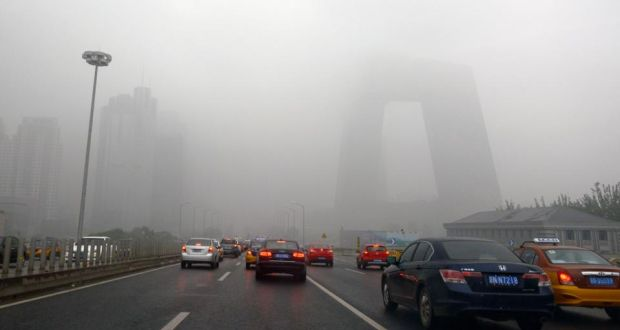car: (379, 236, 559, 329), (512, 242, 619, 317), (253, 238, 307, 281), (180, 236, 221, 268), (67, 238, 117, 259), (355, 243, 390, 268), (25, 237, 60, 257), (306, 245, 333, 266), (1, 236, 22, 261), (217, 234, 236, 253), (245, 241, 256, 267)
